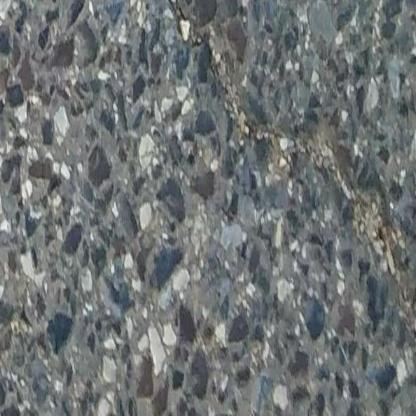Cracks: (158, 0, 416, 357)
